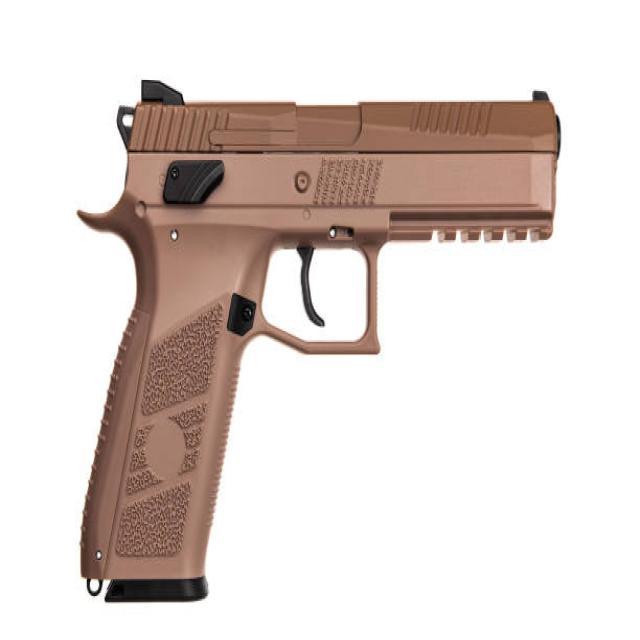pistol: (74, 66, 566, 606)
